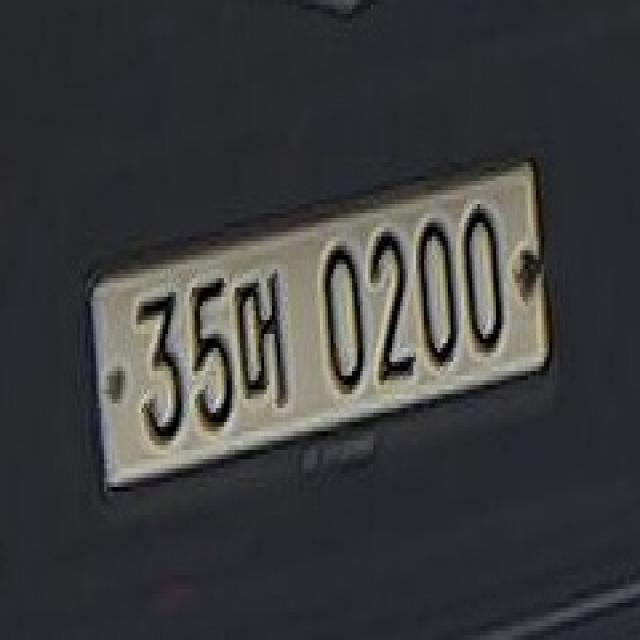0: (320, 241, 365, 399), (459, 200, 504, 357), (413, 218, 459, 366)
2: (366, 232, 414, 389)
3: (133, 283, 187, 445)
5: (189, 274, 235, 431)
license_plate: (85, 153, 552, 487)
meo: (235, 264, 285, 413)
